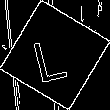L_N: (34, 27, 76, 83)
